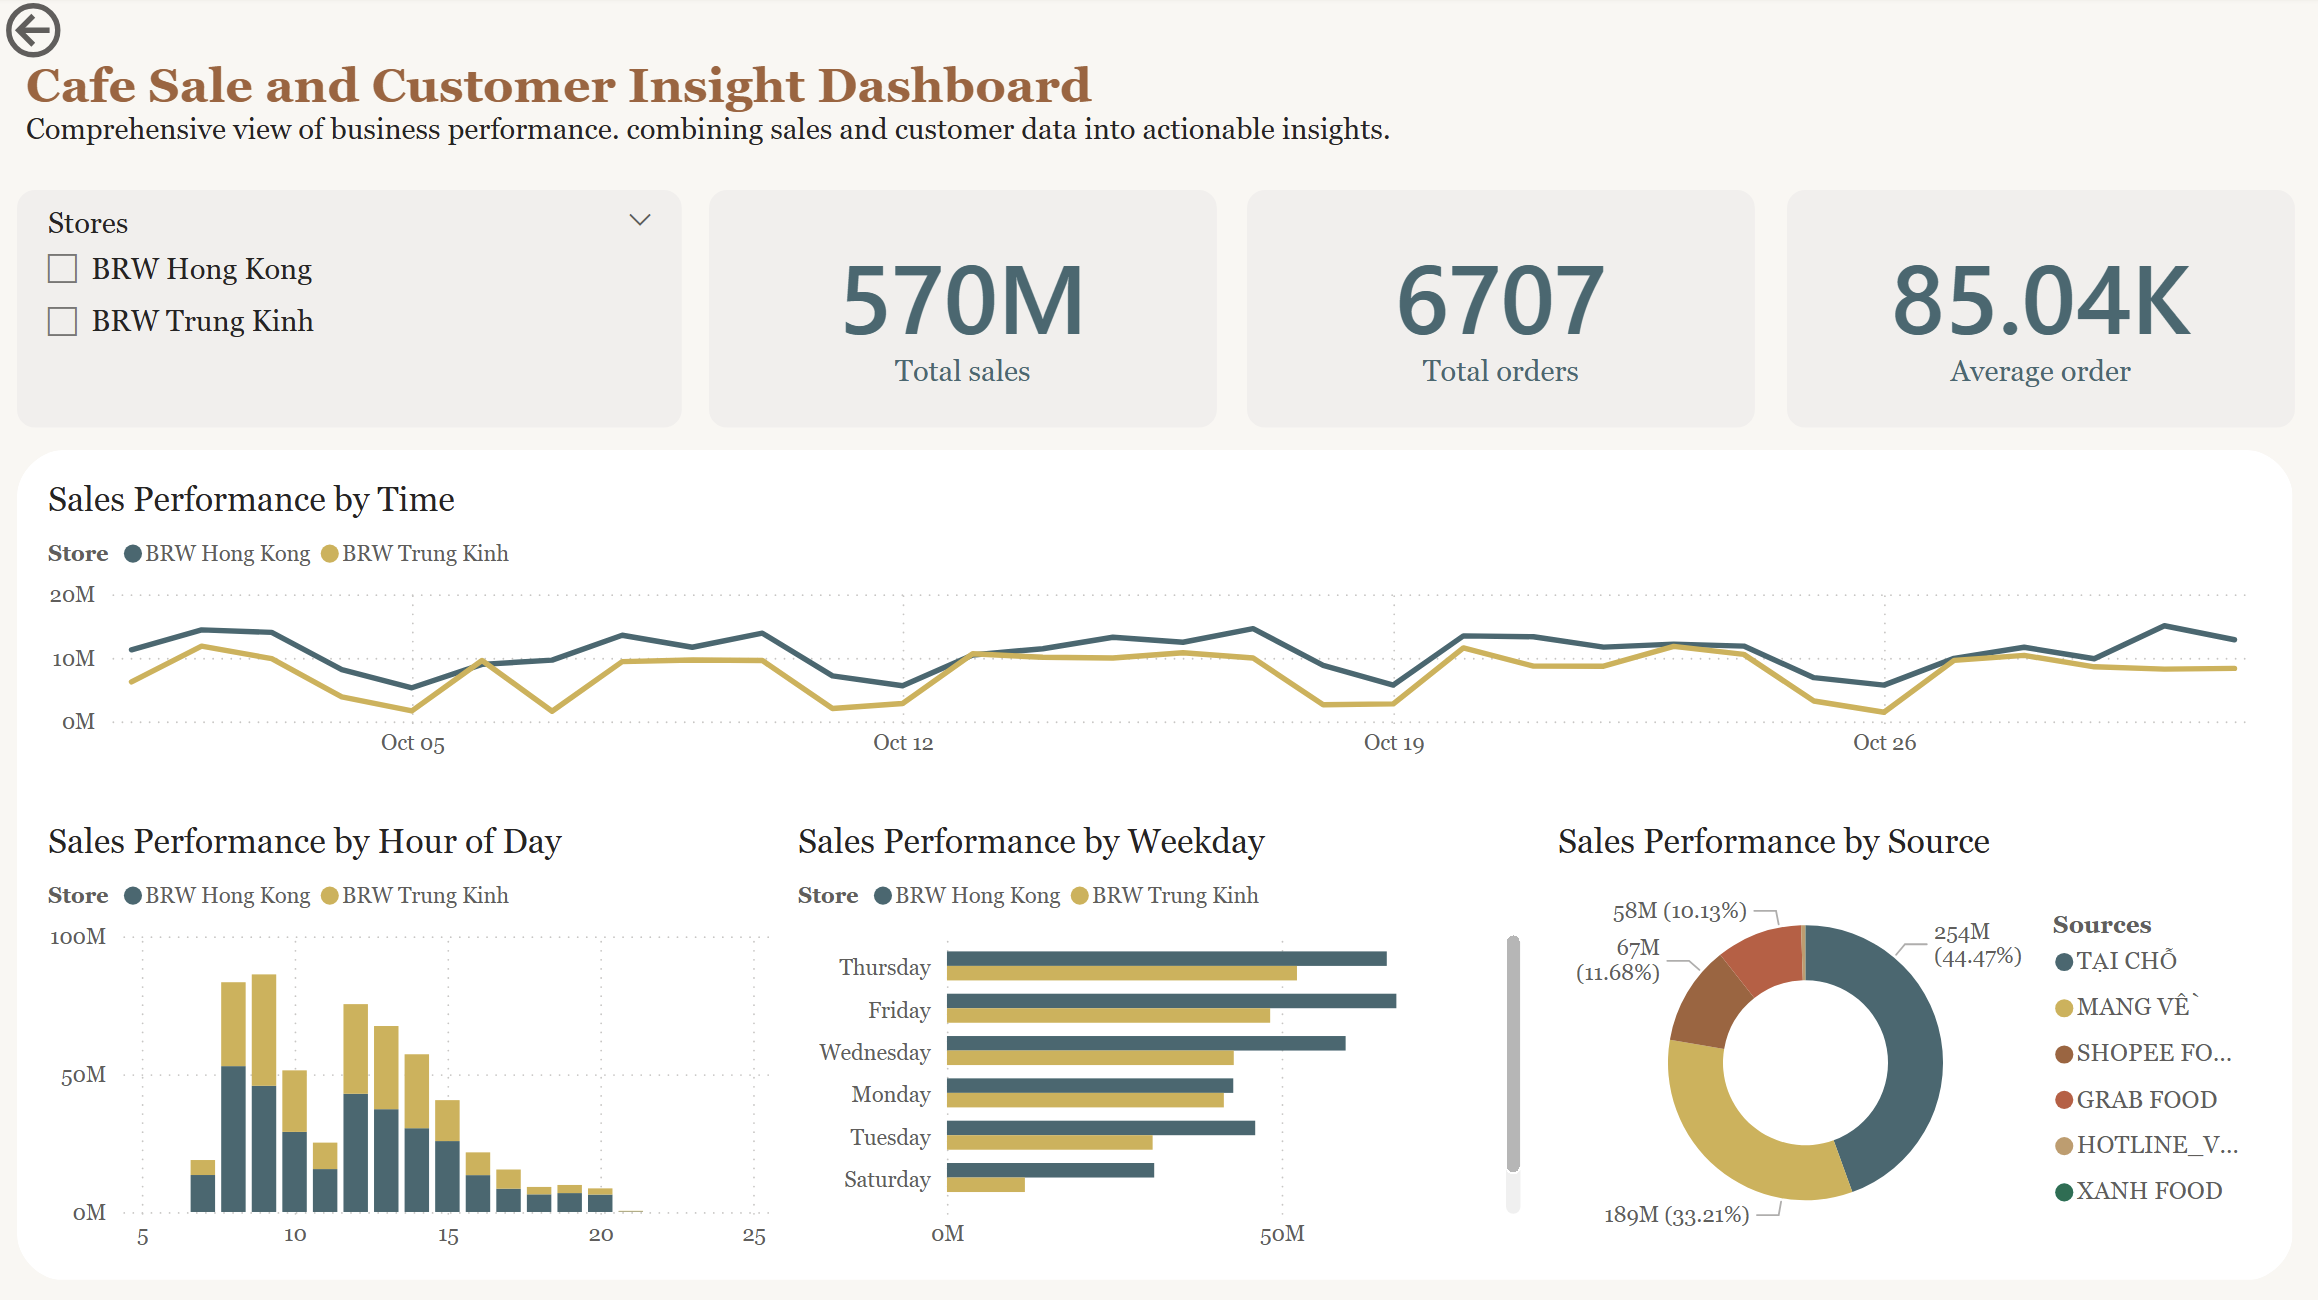

The page's visual inventory and layout, read from the dashboard file:
{"tool":"powerbi","page":{"name":"Sale analysis","canvas":[1280,720],"ordinal":0},"visuals":[{"type":"shape","box":[11.3,251.5,1254.6,457.7],"z":0},{"type":"lineChart","title":"Sales Performance by Time","fields":{"Y":["sale_data.total_amount"],"Series":["store.store_name"],"Category":["sale_data.ConvertedDate.Variation.Date Hierarchy.Year","sale_data.ConvertedDate.Variation.Date Hierarchy.Quarter","sale_data.ConvertedDate.Variation.Date Hierarchy.Month","sale_data.ConvertedDate.Variation.Date Hierarchy.Day"]},"box":[22.6,268.4,1233.4,161.1],"z":1000},{"type":"slicer","fields":{"Values":["store.store_name"]},"box":[11.1,107.7,366.4,131.2],"z":2000},{"type":"donutChart","title":"Sales Performance by Source","fields":{"Category":["source.source_name"],"Y":["sale_data.total_amount"]},"box":[856.2,456.3,399.8,244.4],"z":3000},{"type":"textbox","box":[11.1,29.7,818.3,63.1],"z":4000},{"type":"clusteredBarChart","title":"Sales Performance by Weekday","fields":{"Category":["sale_data.ConvertedDateWeekday"],"Y":["sale_data.total_amount"],"Series":["store.store_name"]},"box":[436.6,456.3,408.3,243],"z":5000},{"type":"actionButton","box":[0,0,100,40],"z":6000},{"type":"columnChart","title":"Sales Performance by Hour of Day","fields":{"Y":["sale_data.total_amount"],"Category":["sale_data.ConvertedHourNumber"],"Series":["store.store_name"]},"box":[22.6,456.3,408.3,243],"z":7000},{"type":"card","title":"Total sales","fields":{"Values":["sale_data.total_amount"]},"box":[392.4,107.7,279.8,131.2],"z":8000},{"type":"card","fields":{"Values":["sale_data.total_amount"]},"box":[689.5,107.7,279.8,131.2],"z":9000},{"type":"card","fields":{"Values":["sale_data.total_amount"]},"box":[986.6,107.7,279.8,131.2],"z":10000}]}

Visuals, with their boxes in screenshot pixels (x1, y1, x2, y2), scaled from the page's 1280x720 canvas onto the 2318x1300 screenshot:
shape: 20, 454, 2292, 1280
"Sales Performance by Time" lineChart: 41, 485, 2275, 775
slicer - store.store_name: 20, 194, 684, 431
"Sales Performance by Source" donutChart: 1551, 824, 2275, 1265
textbox: 20, 54, 1502, 168
"Sales Performance by Weekday" clusteredBarChart: 791, 824, 1530, 1263
actionButton: 0, 0, 181, 72
"Sales Performance by Hour of Day" columnChart: 41, 824, 780, 1263
"Total sales" card: 711, 194, 1217, 431
card - sale_data.total_amount: 1249, 194, 1755, 431
card - sale_data.total_amount: 1787, 194, 2293, 431
